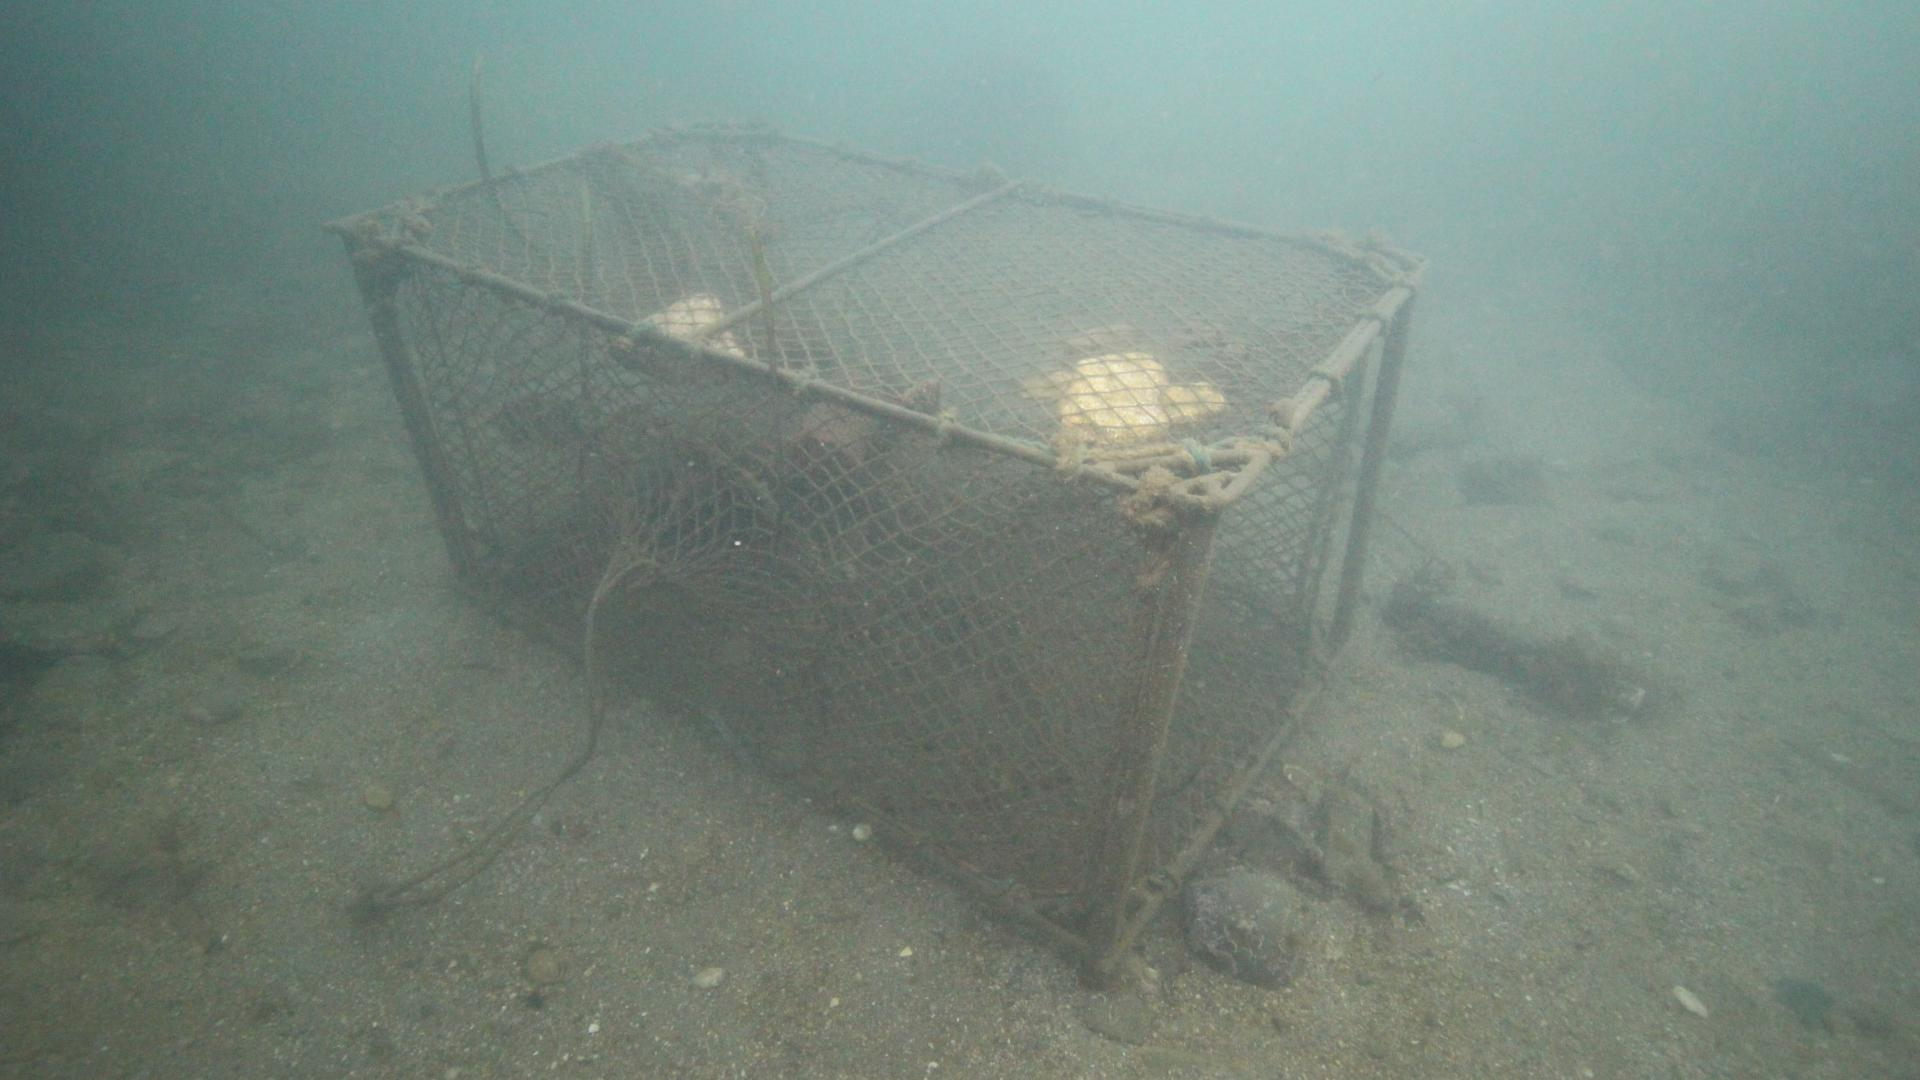rectangular fish trap: (324, 116, 1432, 982)
